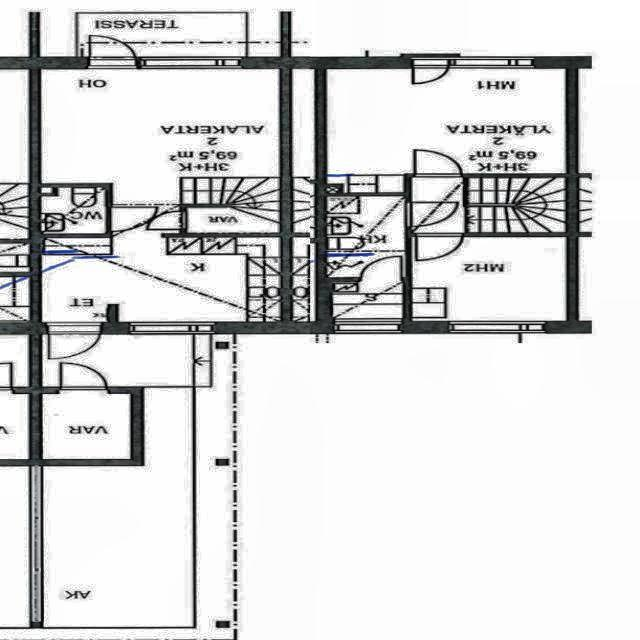room: (326, 67, 566, 192), (41, 207, 284, 322), (411, 236, 567, 321), (41, 334, 211, 386), (42, 393, 131, 459), (42, 187, 105, 234)
